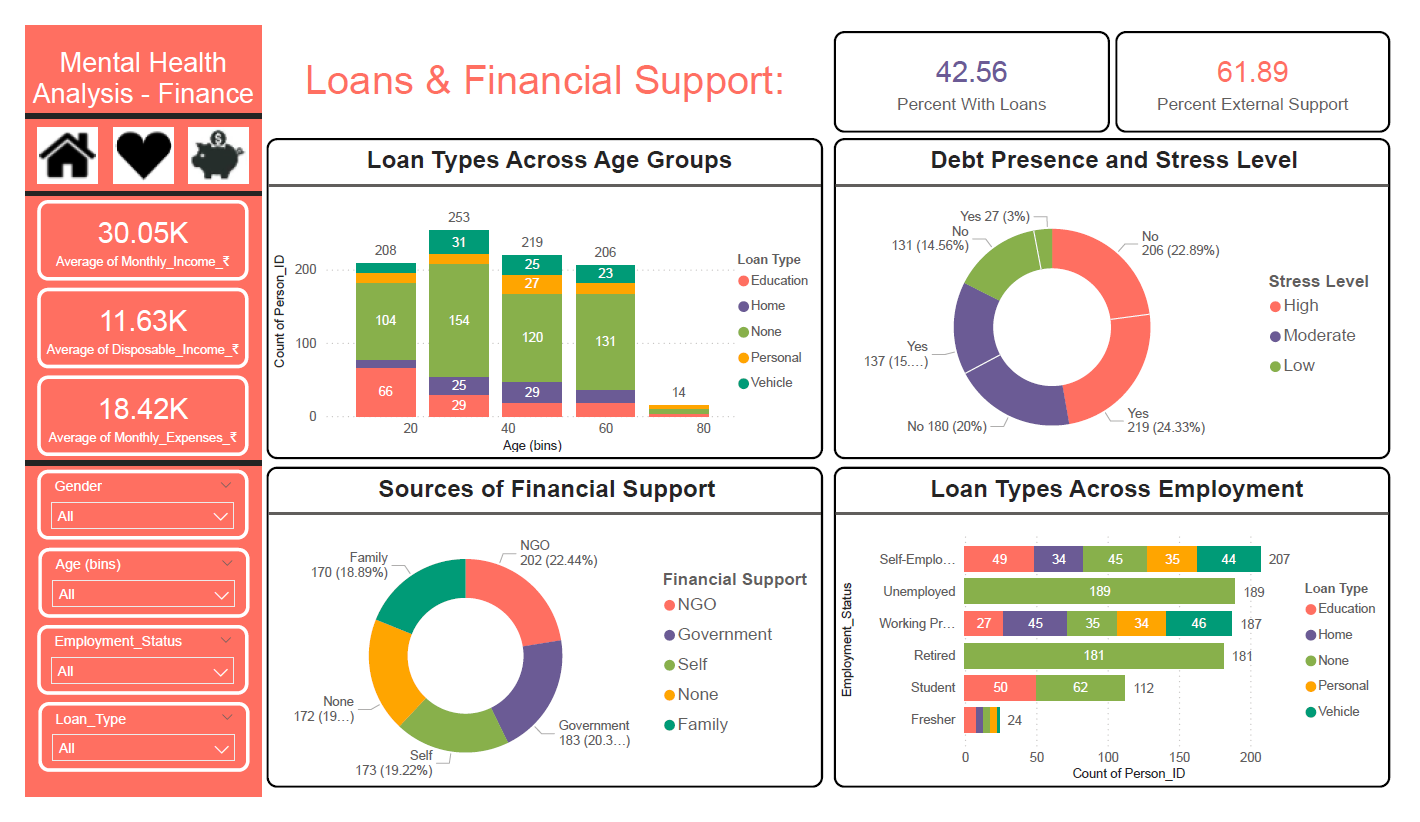

Layout of this report page (visuals, bound fields, positions):
{"tool":"powerbi","page":{"name":"Loans & Financial Support","canvas":[1280,720],"ordinal":3},"visuals":[{"type":"shape","box":[0,0,220,720.3],"z":0},{"type":"card","fields":{"Values":["Avg(Finance_Dataset.Disposable_Income_₹)"]},"box":[11.2,245,196.5,75],"z":1000},{"type":"card","fields":{"Values":["Avg(Finance_Dataset.Monthly_Expenses_₹)"]},"box":[11.2,327,196.5,75],"z":2000},{"type":"card","fields":{"Values":["Avg(Finance_Dataset.Monthly_Income_₹)"]},"box":[11.2,163,196.5,75],"z":3000},{"type":"textbox","title":"Mental Health Analysis - Finance","box":[0,15,220.2,70],"z":4000},{"type":"slicer","fields":{"Values":["Finance_Dataset.Gender"]},"box":[11.2,415,196.5,65],"z":5000},{"type":"actionButton","box":[11.2,94.5,56,52],"z":6000},{"type":"actionButton","box":[82.1,94.5,56,52],"z":7000},{"type":"actionButton","box":[151.8,94.5,56,52],"z":8000},{"type":"slicer","fields":{"Values":["Finance_Dataset.Age (bins)"]},"box":[12.4,488,196.5,65],"z":9000},{"type":"slicer","fields":{"Values":["Finance_Dataset.Employment_Status"]},"box":[11.2,560,196.5,65],"z":10000},{"type":"slicer","fields":{"Values":["Finance_Dataset.Loan_Type"]},"box":[12.4,632,196.5,65],"z":11000},{"type":"shape","box":[0,401.8,220.2,13],"z":12000},{"type":"shape","box":[0,150.5,220.2,12.4],"z":13000},{"type":"shape","box":[0,78.4,220.2,12.4],"z":14000},{"type":"columnChart","title":"Loan Types Across Age Groups","fields":{"Category":["Finance_Dataset.Age (bins)"],"Y":["CountNonNull(Finance_Dataset.Person_ID)"],"Series":["Finance_Dataset.Loan_Type"]},"box":[225,105,520,300],"z":15000},{"type":"barChart","title":"Loan Types Across Employment","fields":{"Series":["Finance_Dataset.Loan_Type"],"Category":["Finance_Dataset.Employment_Status"],"Y":["CountNonNull(Finance_Dataset.Person_ID)"]},"box":[755,412,520,300],"z":16000},{"type":"donutChart","title":"Sources of Financial Support","fields":{"Category":["Finance_Dataset.Financial_Support_Source"],"Y":["CountNonNull(Finance_Dataset.Person_ID)"]},"box":[225.2,412,520,300],"z":17000},{"type":"donutChart","title":"Debt Presence and Stress Level","fields":{"Category":["Finance_Dataset.Stress_Level"],"Y":["CountNonNull(Finance_Dataset.Person_ID)"],"Series":["Finance_Dataset.Has_Debt"]},"box":[755,105,520,300],"z":18000},{"type":"textbox","title":"Main Dashboard Overview","box":[225,25,520,60],"z":19000},{"type":"card","fields":{"Values":["Finance_Dataset.Percent With Loans"]},"box":[755,5,258,95],"z":20000},{"type":"card","fields":{"Values":["Finance_Dataset.Percent External Support"]},"box":[1017.5,5,257.5,95],"z":21000}]}

Visuals, with their boxes in screenshot pixels (x1, y1, x2, y2), scaled from the page's 1280x720 canvas onto the 1420x822 screenshot:
shape: select_region(0, 0, 244, 821)
card - Avg(Finance_Dataset.Disposable_Income_₹): select_region(12, 280, 230, 365)
card - Avg(Finance_Dataset.Monthly_Expenses_₹): select_region(12, 373, 230, 459)
card - Avg(Finance_Dataset.Monthly_Income_₹): select_region(12, 186, 230, 272)
"Mental Health Analysis - Finance" textbox: select_region(0, 17, 244, 97)
slicer - Finance_Dataset.Gender: select_region(12, 474, 230, 548)
actionButton: select_region(12, 108, 75, 167)
actionButton: select_region(91, 108, 153, 167)
actionButton: select_region(168, 108, 231, 167)
slicer - Finance_Dataset.Age (bins): select_region(14, 557, 232, 631)
slicer - Finance_Dataset.Employment_Status: select_region(12, 639, 230, 714)
slicer - Finance_Dataset.Loan_Type: select_region(14, 722, 232, 796)
shape: select_region(0, 459, 244, 474)
shape: select_region(0, 172, 244, 186)
shape: select_region(0, 90, 244, 104)
"Loan Types Across Age Groups" columnChart: select_region(250, 120, 826, 462)
"Loan Types Across Employment" barChart: select_region(838, 470, 1414, 813)
"Sources of Financial Support" donutChart: select_region(250, 470, 827, 813)
"Debt Presence and Stress Level" donutChart: select_region(838, 120, 1414, 462)
"Main Dashboard Overview" textbox: select_region(250, 29, 826, 97)
card - Finance_Dataset.Percent With Loans: select_region(838, 6, 1124, 114)
card - Finance_Dataset.Percent External Support: select_region(1129, 6, 1414, 114)
